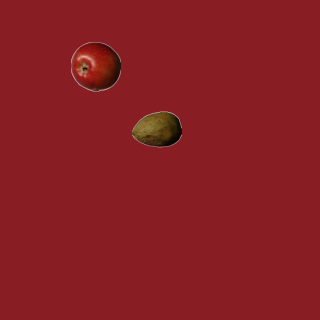Apple Braeburn: (70, 41, 120, 91)
Papaya: (131, 104, 181, 154)
